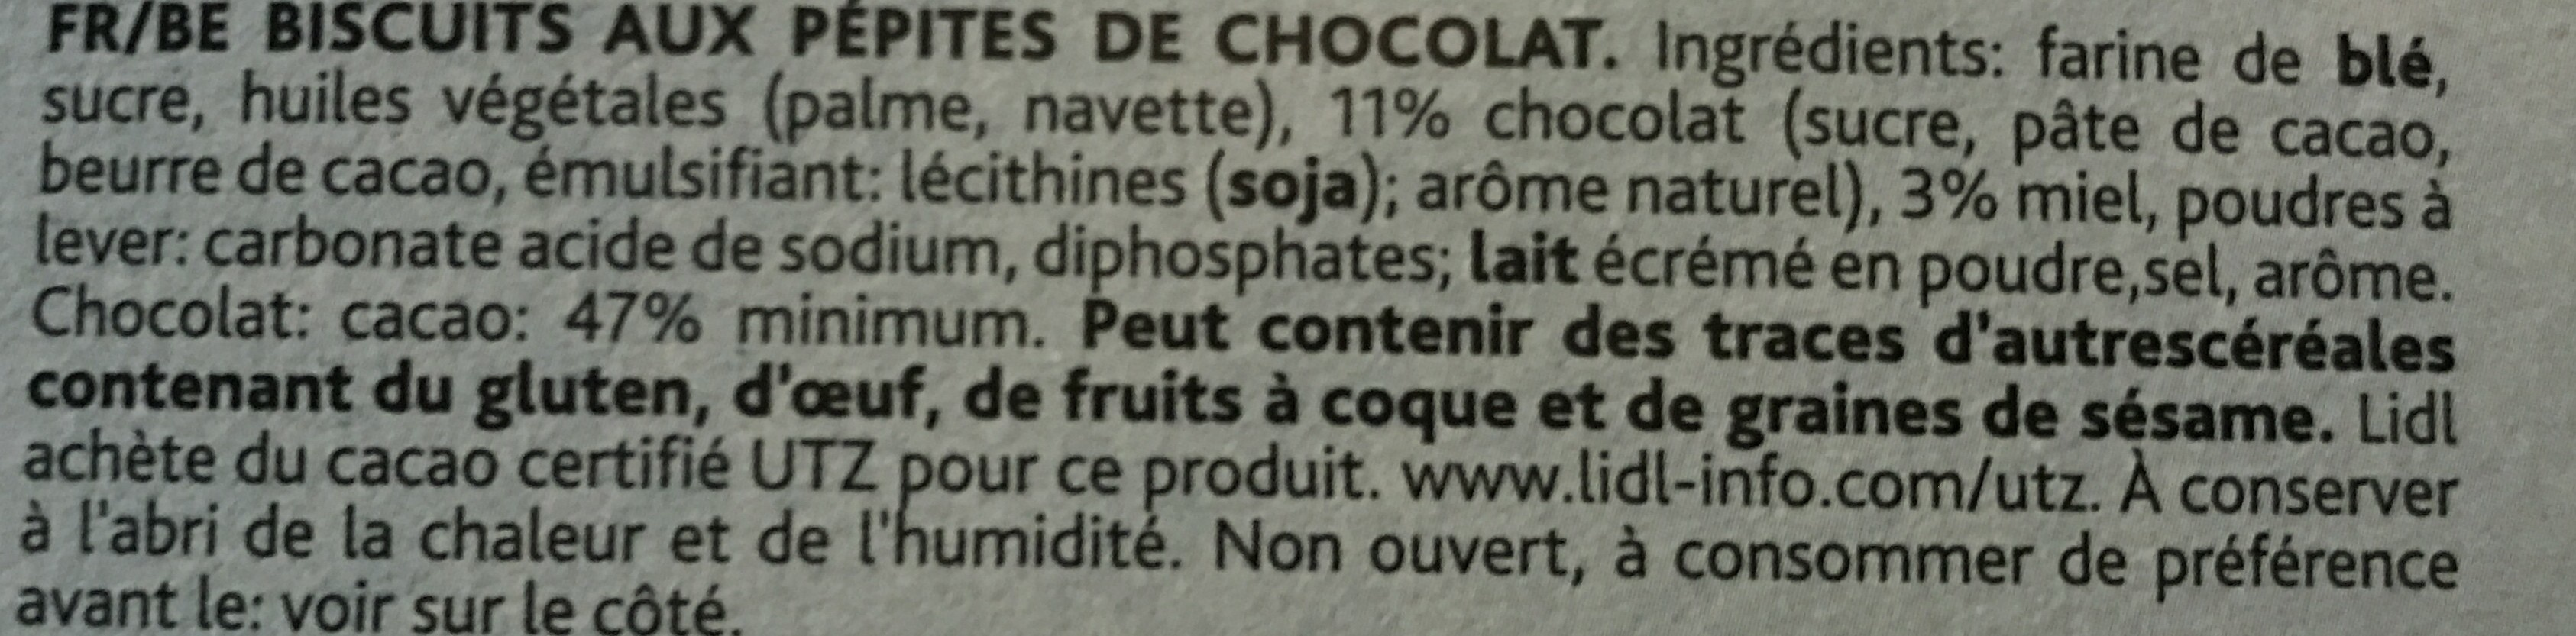ingredients: (20, 5, 2502, 457)
